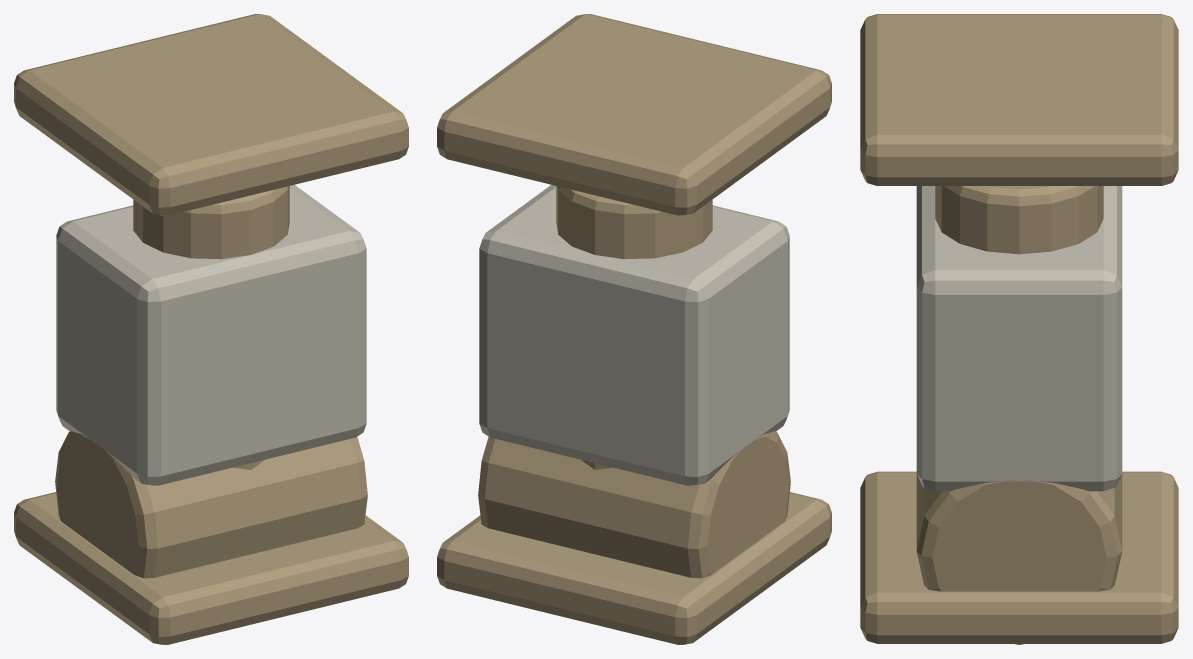
File: Spine.glb
3 views of the same model, side by side, from view 1: azimuth 30°, elevation 25°; view 2: azimuth 150°, elevation 25°; view 3: azimuth 270°, elevation 25° (orthographic). The views are drawn at different scales.
Parts seen in each view (by area): view 1: Spine_Bar.003, PART_Spine.003; view 2: Spine_Bar.003, PART_Spine.003; view 3: Spine_Bar.003, PART_Spine.003.
Part boxes in pixels (<box>): Spine_Bar.003: <box>14,14,408,485</box>; PART_Spine.003: <box>14,431,408,644</box>; Spine_Bar.003: <box>437,14,831,485</box>; PART_Spine.003: <box>437,431,831,644</box>; Spine_Bar.003: <box>860,14,1178,491</box>; PART_Spine.003: <box>860,471,1178,644</box>.
Size of the model in its own units: 0.34 by 0.61 by 0.34.
